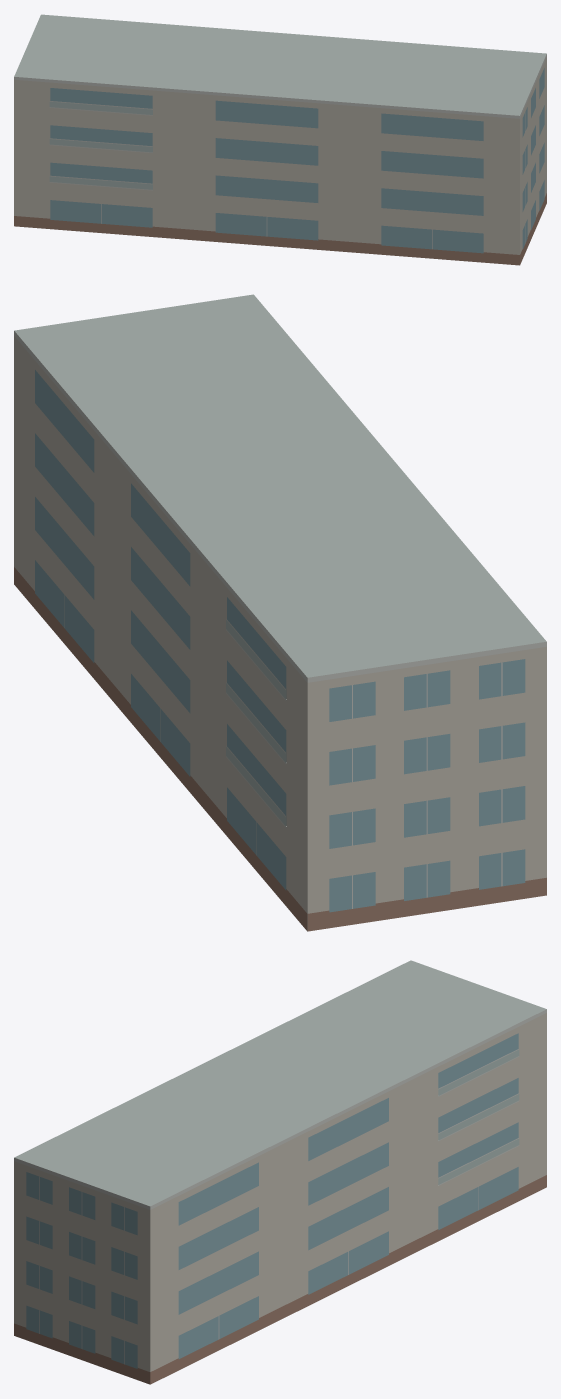
The model's file is residential-f0b77da3-6a3d-49f1-a674-a624f256f780.glb.
3 renders of one model, top to bottom at view 1: azimuth 30°, elevation 25°; view 2: azimuth 150°, elevation 25°; view 3: azimuth 270°, elevation 25°, orthographic. The views are drawn at different scales.
Parts seen in each view (by area): view 1: residential-f0b77da3-6a3d-49f1-a674-a624f256f780.tmp; view 2: residential-f0b77da3-6a3d-49f1-a674-a624f256f780.tmp; view 3: residential-f0b77da3-6a3d-49f1-a674-a624f256f780.tmp.
Boxes of the visible parts, x1,y1,x2,y2 form: residential-f0b77da3-6a3d-49f1-a674-a624f256f780.tmp: [14, 14, 546, 265]; residential-f0b77da3-6a3d-49f1-a674-a624f256f780.tmp: [14, 294, 546, 931]; residential-f0b77da3-6a3d-49f1-a674-a624f256f780.tmp: [14, 960, 546, 1384].
Bounding box in the file's own units: 36.15 × 12.2 × 33.07.
